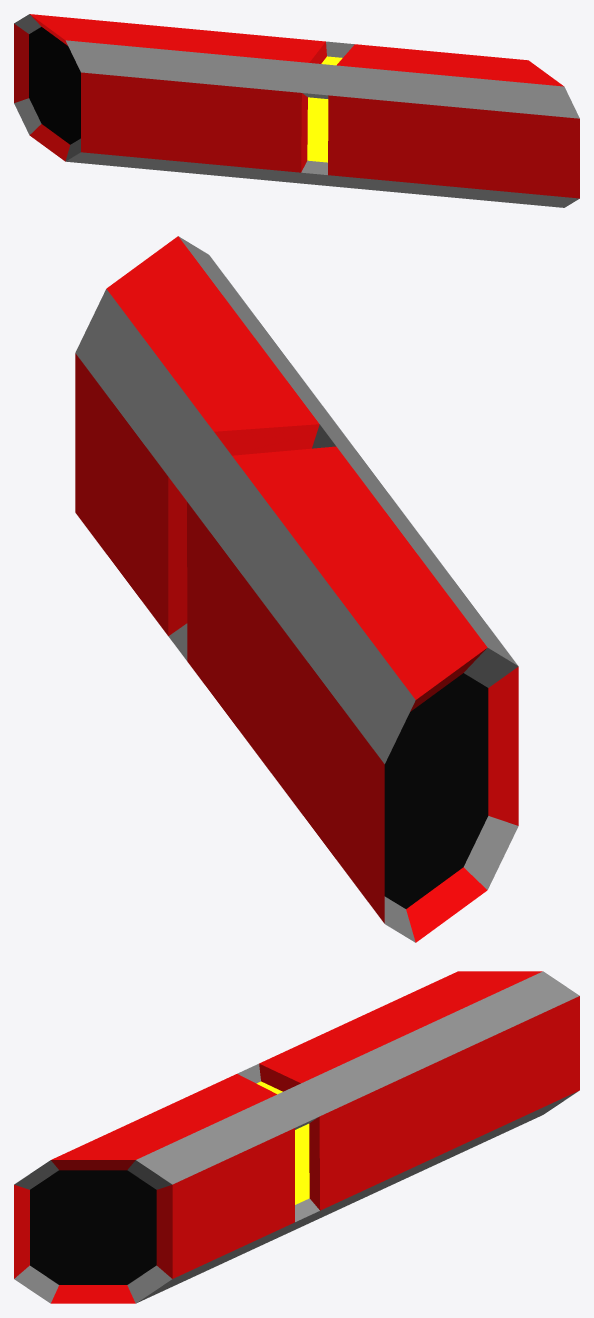
Rendered from Connector3.fbx.
The picture shows the model from 3 angles, top to bottom: view 1: azimuth 30°, elevation 25°; view 2: azimuth 150°, elevation 25°; view 3: azimuth 270°, elevation 25°; orthographic projection. The views are drawn at different scales.
Parts seen in each view (by area): view 1: Connector3; view 2: Connector3; view 3: Connector3.
Part boxes in pixels (left/top/right/bottom): Connector3: left=14, top=14, right=579, bottom=207; Connector3: left=75, top=236, right=518, bottom=942; Connector3: left=14, top=971, right=579, bottom=1303.
Size of the model in its own units: 9.14 by 3.24 by 11.58.
